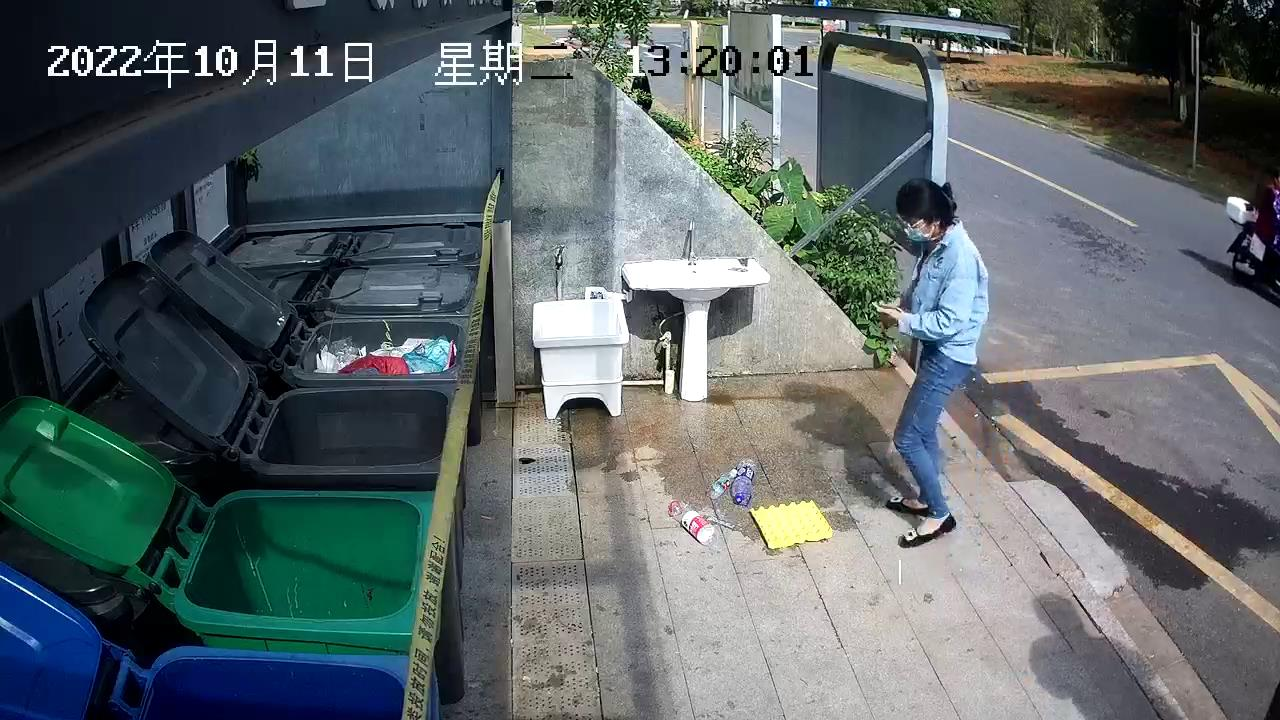suliaozhipin: (663, 496, 719, 550), (703, 463, 738, 506), (729, 456, 755, 513)
worker: (864, 173, 995, 551)
zhizhipin: (744, 498, 839, 553)
